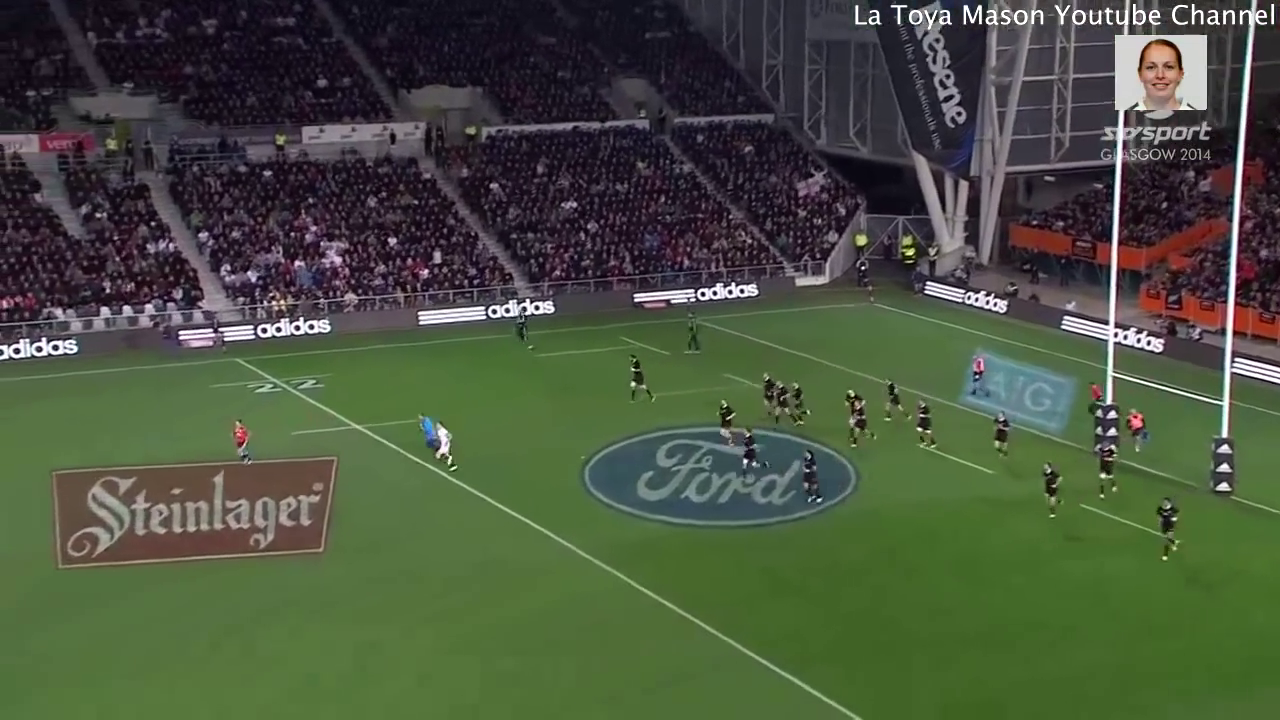player: (1149, 492, 1185, 566), (734, 419, 774, 484), (793, 443, 829, 510), (623, 348, 661, 411), (425, 416, 460, 479), (1093, 435, 1123, 507), (224, 414, 261, 472), (878, 372, 915, 425), (913, 391, 943, 453), (985, 405, 1015, 467), (1041, 458, 1069, 524), (410, 409, 441, 467), (1121, 402, 1153, 457), (846, 396, 878, 449), (676, 307, 707, 361), (710, 395, 739, 449), (967, 349, 994, 405), (770, 375, 797, 428), (507, 304, 532, 351), (757, 370, 778, 418), (789, 379, 811, 422), (1084, 377, 1107, 417), (845, 382, 868, 414)
post: (1085, 168, 1251, 503)
